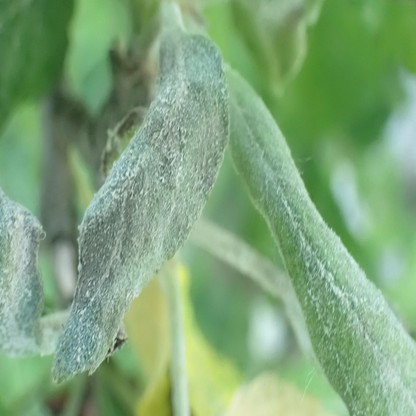powder: (227, 64, 415, 416), (50, 27, 230, 384), (0, 188, 54, 357)
